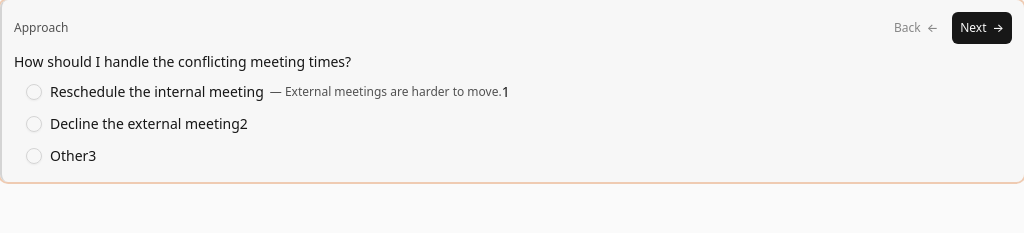
Scenario: Multi-question Back/Next navigation › submit disabled until all questions answered
// Answer first question only
Click the radio button next to "Reschedule the internal meeting": (34, 92) [26,84,42,100]
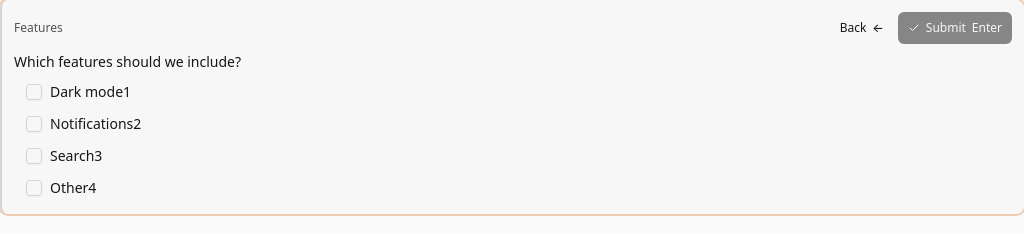
expect the button "Submit Enter" is disabled: met, box [898,12,1012,44]
